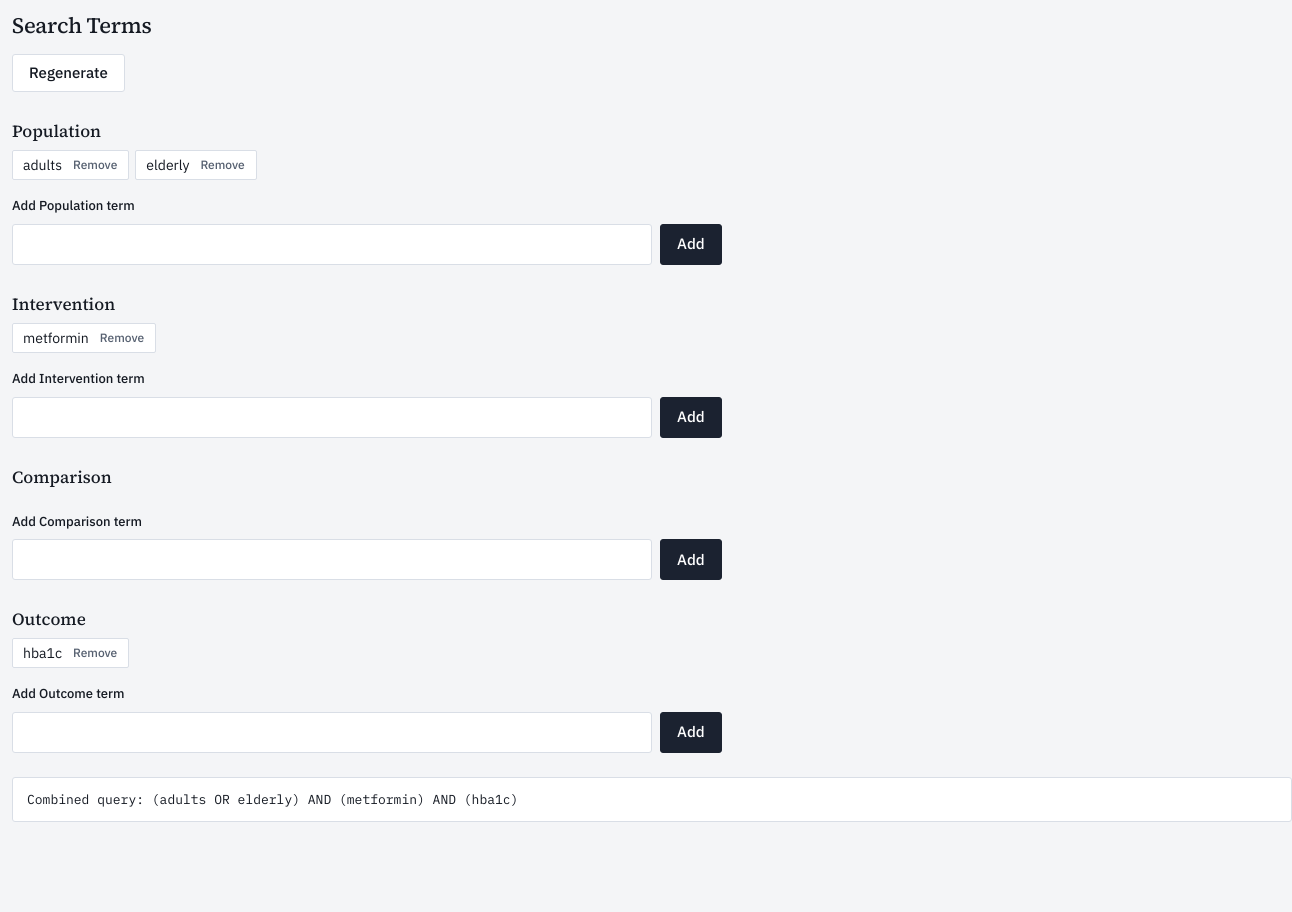
Test: SearchTermsPanel › removes a term from a concept and updates the combined string
This screenshot has width=1292, height=912.
Click the 1st button "Remove" at x=95, y=166, box [66,154,124,178]
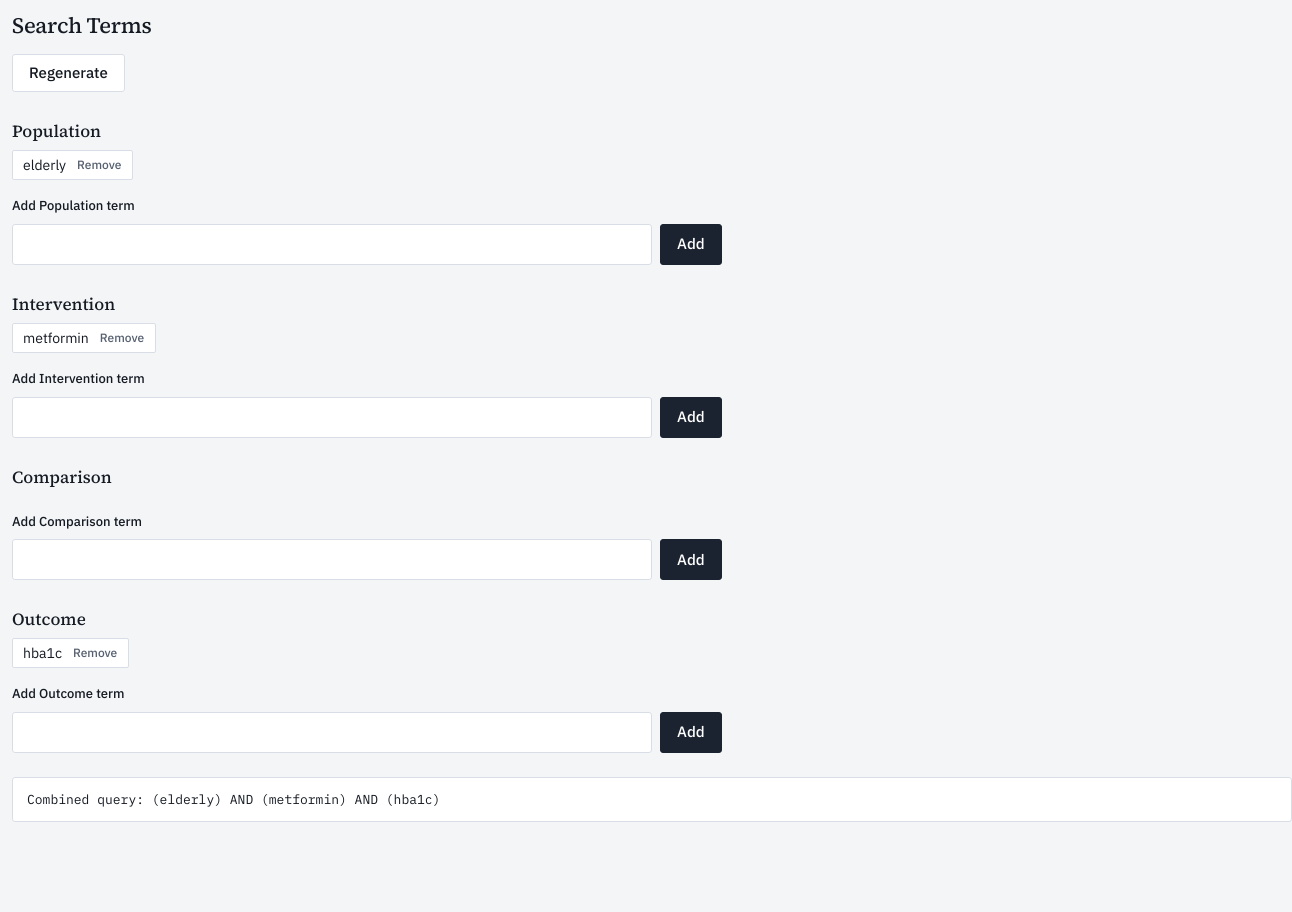
Check: the list item "adults" is gone
Check: the text "Combined query: (elderly) AND (metformin) AND (hba1c)" is shown, box [12,777,1291,822]
